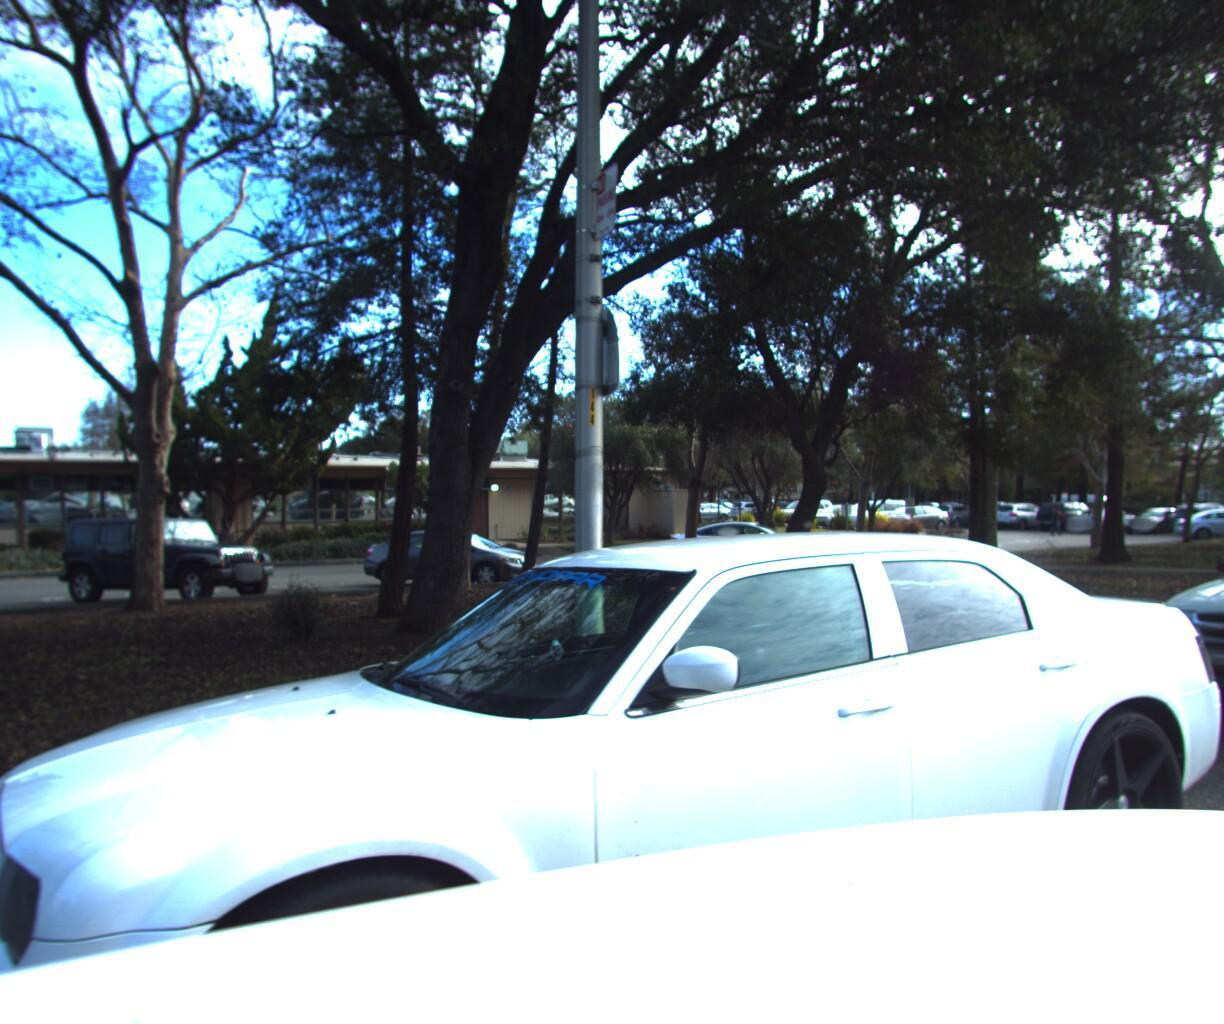car: (0, 503, 1224, 1024), (1115, 467, 1224, 800), (1051, 486, 1135, 514)
